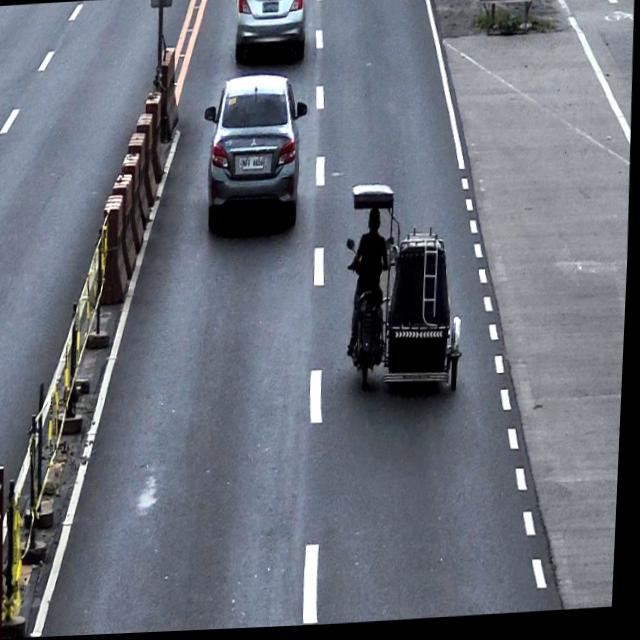Car: (201, 74, 314, 238), (234, 0, 307, 66)
License-Plate: (242, 158, 268, 174), (261, 3, 280, 16)
Tricycle: (343, 181, 473, 401)
